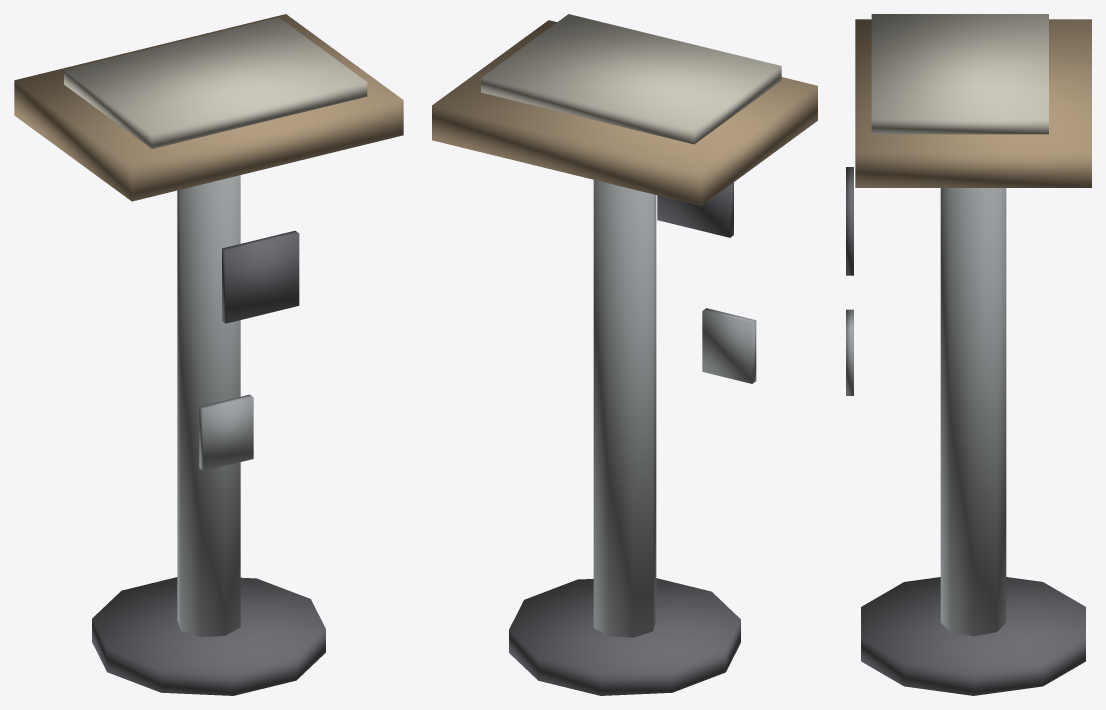
The model's file is memorial_plaque_stand__weathered.glb.
The picture shows the model from 3 angles, left to right: view 1: azimuth 30°, elevation 25°; view 2: azimuth 150°, elevation 25°; view 3: azimuth 270°, elevation 25°; orthographic projection.
Parts seen in each view (by area): view 1: world; view 2: world; view 3: world.
Boxes of the visible parts, x1=… form: world: x1=14, y1=14, x2=403, y2=695; world: x1=432, y1=14, x2=817, y2=695; world: x1=846, y1=14, x2=1091, y2=695.
Bounding box in the file's own units: 0.48 × 0.9727 × 0.374.
